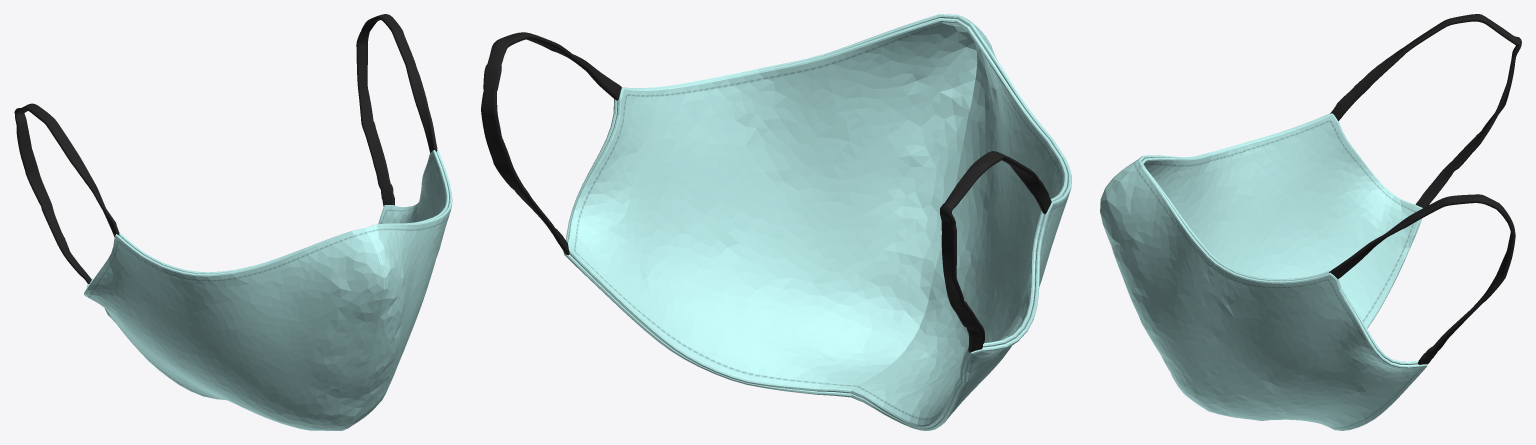
Rendered from mask fbx thick 4096x4096.fbx.
3 renders of one model, left to right at view 1: azimuth 30°, elevation 25°; view 2: azimuth 150°, elevation 25°; view 3: azimuth 270°, elevation 25°, orthographic. The views are drawn at different scales.
Parts seen in each view (by area): view 1: Pattern2D_10119, Pattern2D_10120, Pattern2D_112043, Pattern2D_112048, Pattern2D_112045, Pattern2D_112049; view 2: Pattern2D_10120, Pattern2D_10119, Pattern2D_112043, Pattern2D_112048, Pattern2D_112045, Pattern2D_112049; view 3: Pattern2D_10120, Pattern2D_10119, Pattern2D_112049, Pattern2D_112045, Pattern2D_112048, Pattern2D_112043.
Boxes of the visible parts, x1,y1,x2,y2 form: Pattern2D_10119: [84, 228, 385, 430]; Pattern2D_10120: [343, 150, 452, 430]; Pattern2D_112043: [356, 32, 394, 206]; Pattern2D_112048: [15, 113, 91, 283]; Pattern2D_112045: [361, 14, 437, 152]; Pattern2D_112049: [14, 103, 119, 236]; Pattern2D_10120: [563, 14, 977, 397]; Pattern2D_10119: [851, 15, 1071, 430]; Pattern2D_112043: [481, 90, 569, 254]; Pattern2D_112048: [940, 212, 984, 352]; Pattern2D_112045: [483, 32, 621, 100]; Pattern2D_112049: [940, 151, 1051, 215]; Pattern2D_10120: [1100, 160, 1427, 430]; Pattern2D_10119: [1100, 113, 1422, 328]; Pattern2D_112049: [1330, 14, 1521, 120]; Pattern2D_112045: [1329, 194, 1510, 278]; Pattern2D_112048: [1415, 45, 1521, 207]; Pattern2D_112043: [1418, 218, 1515, 364].
Bounding box in the file's own units: 16.39 × 12.24 × 15.37.
